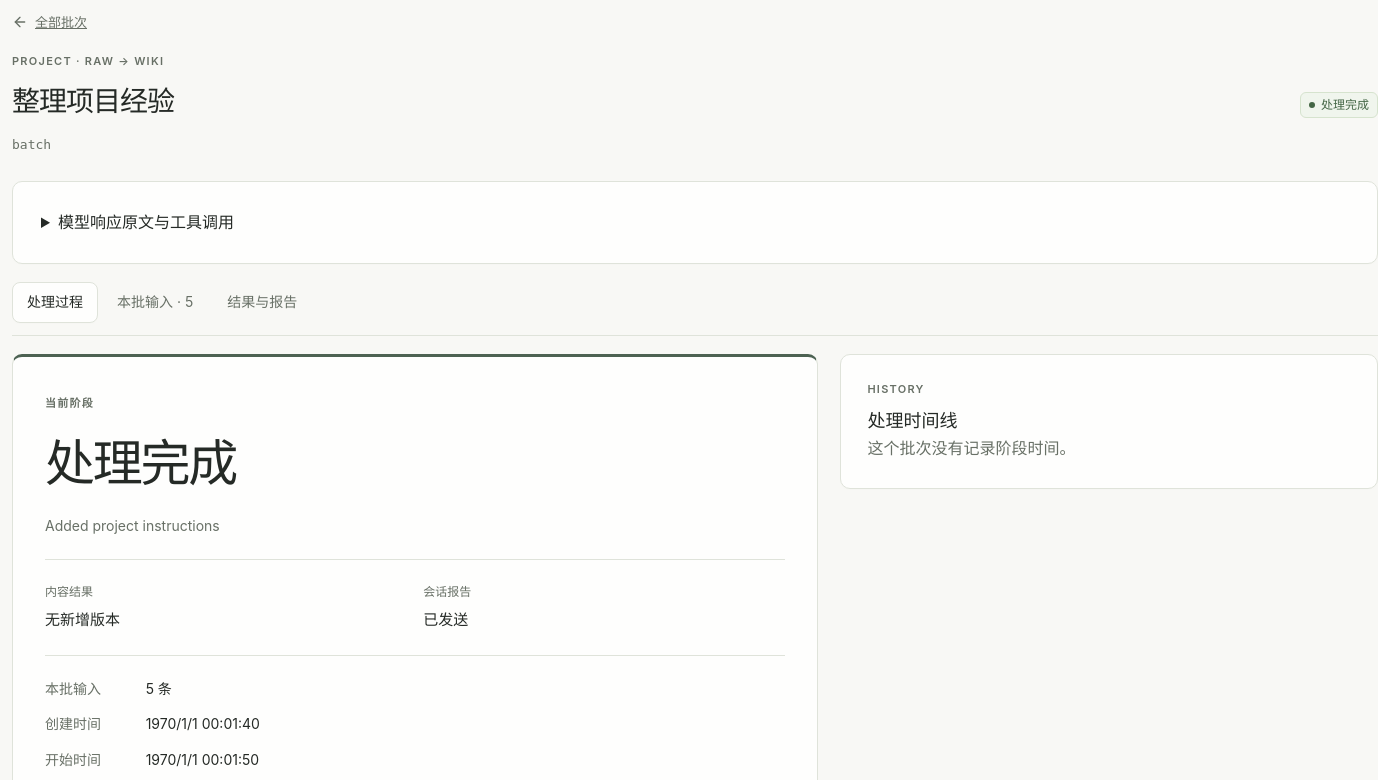
Test: shows no-change completion and consumed inputs without a publication
Expected: the text "无新增版本" is shown, 45,610 -> 120,629
Click the button "结果与报告" at (262, 303), box 212,282 -> 312,323
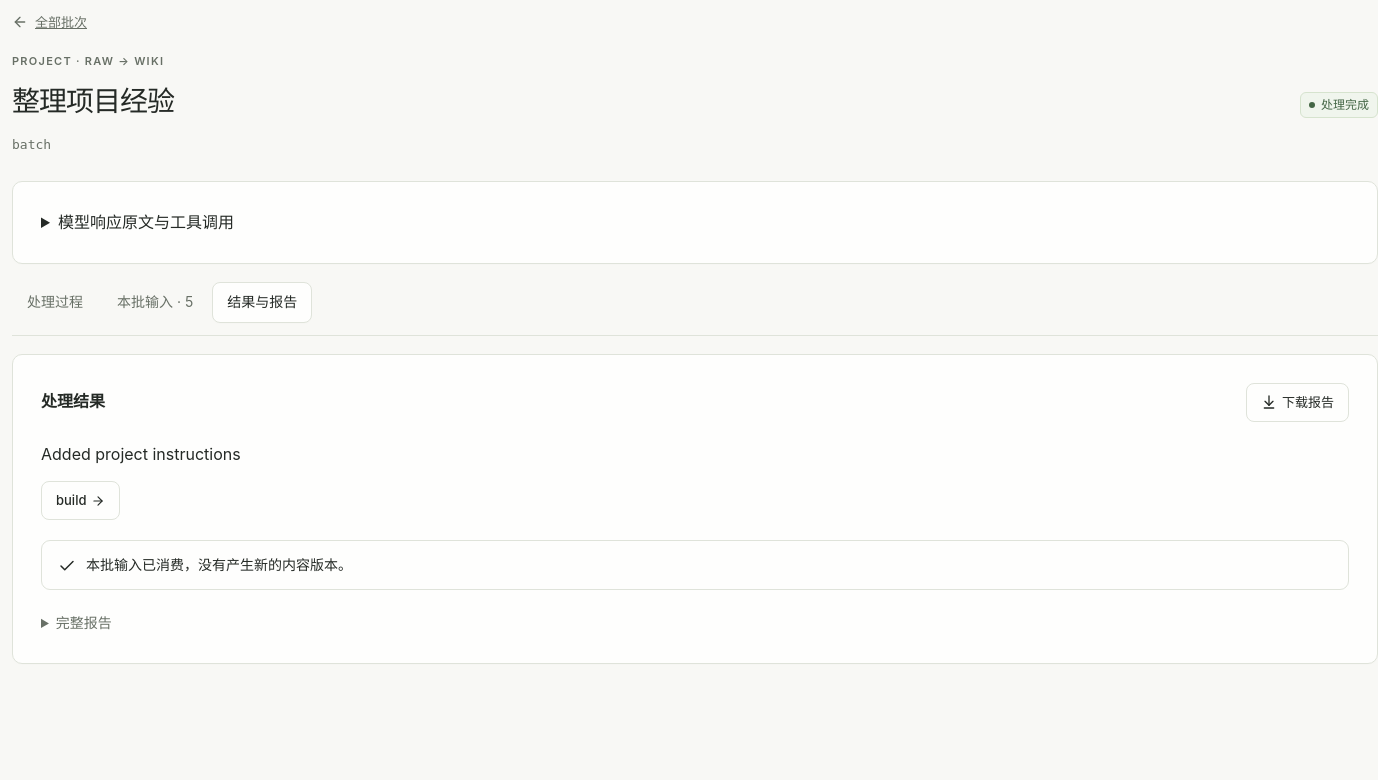
Result: the text "本批输入已消费，没有产生新的内容版本。" is shown at 86,554 -> 352,576
